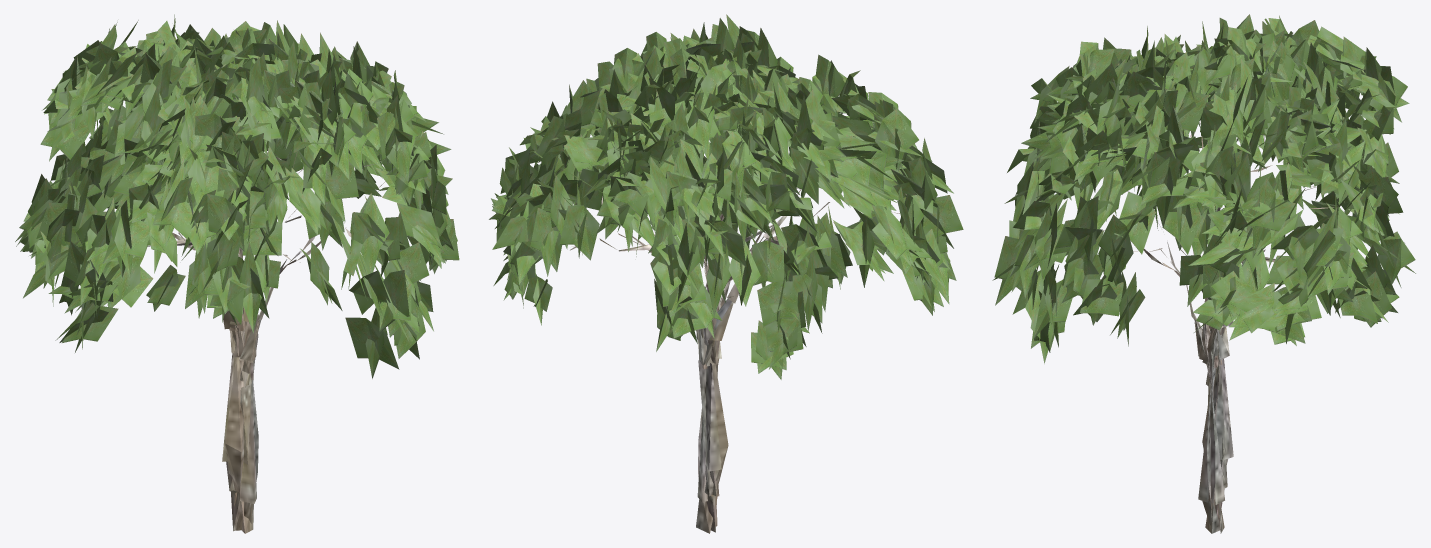
File: acacia_7.obj
The picture shows the model from 3 angles, left to right: view 1: azimuth 30°, elevation 25°; view 2: azimuth 150°, elevation 25°; view 3: azimuth 270°, elevation 25°; orthographic projection. The views are drawn at different scales.
Parts seen in each view (by area): view 1: acacia_lowres.001; view 2: acacia_lowres.001; view 3: acacia_lowres.001.
Part boxes in pixels (box(x1,y1,x2,y2)): acacia_lowres.001: box(15, 14, 459, 533); acacia_lowres.001: box(489, 14, 963, 533); acacia_lowres.001: box(992, 14, 1415, 533).
Bounding box in the file's own units: 11.33 × 12.34 × 9.51.
1 material, 1 textured.
